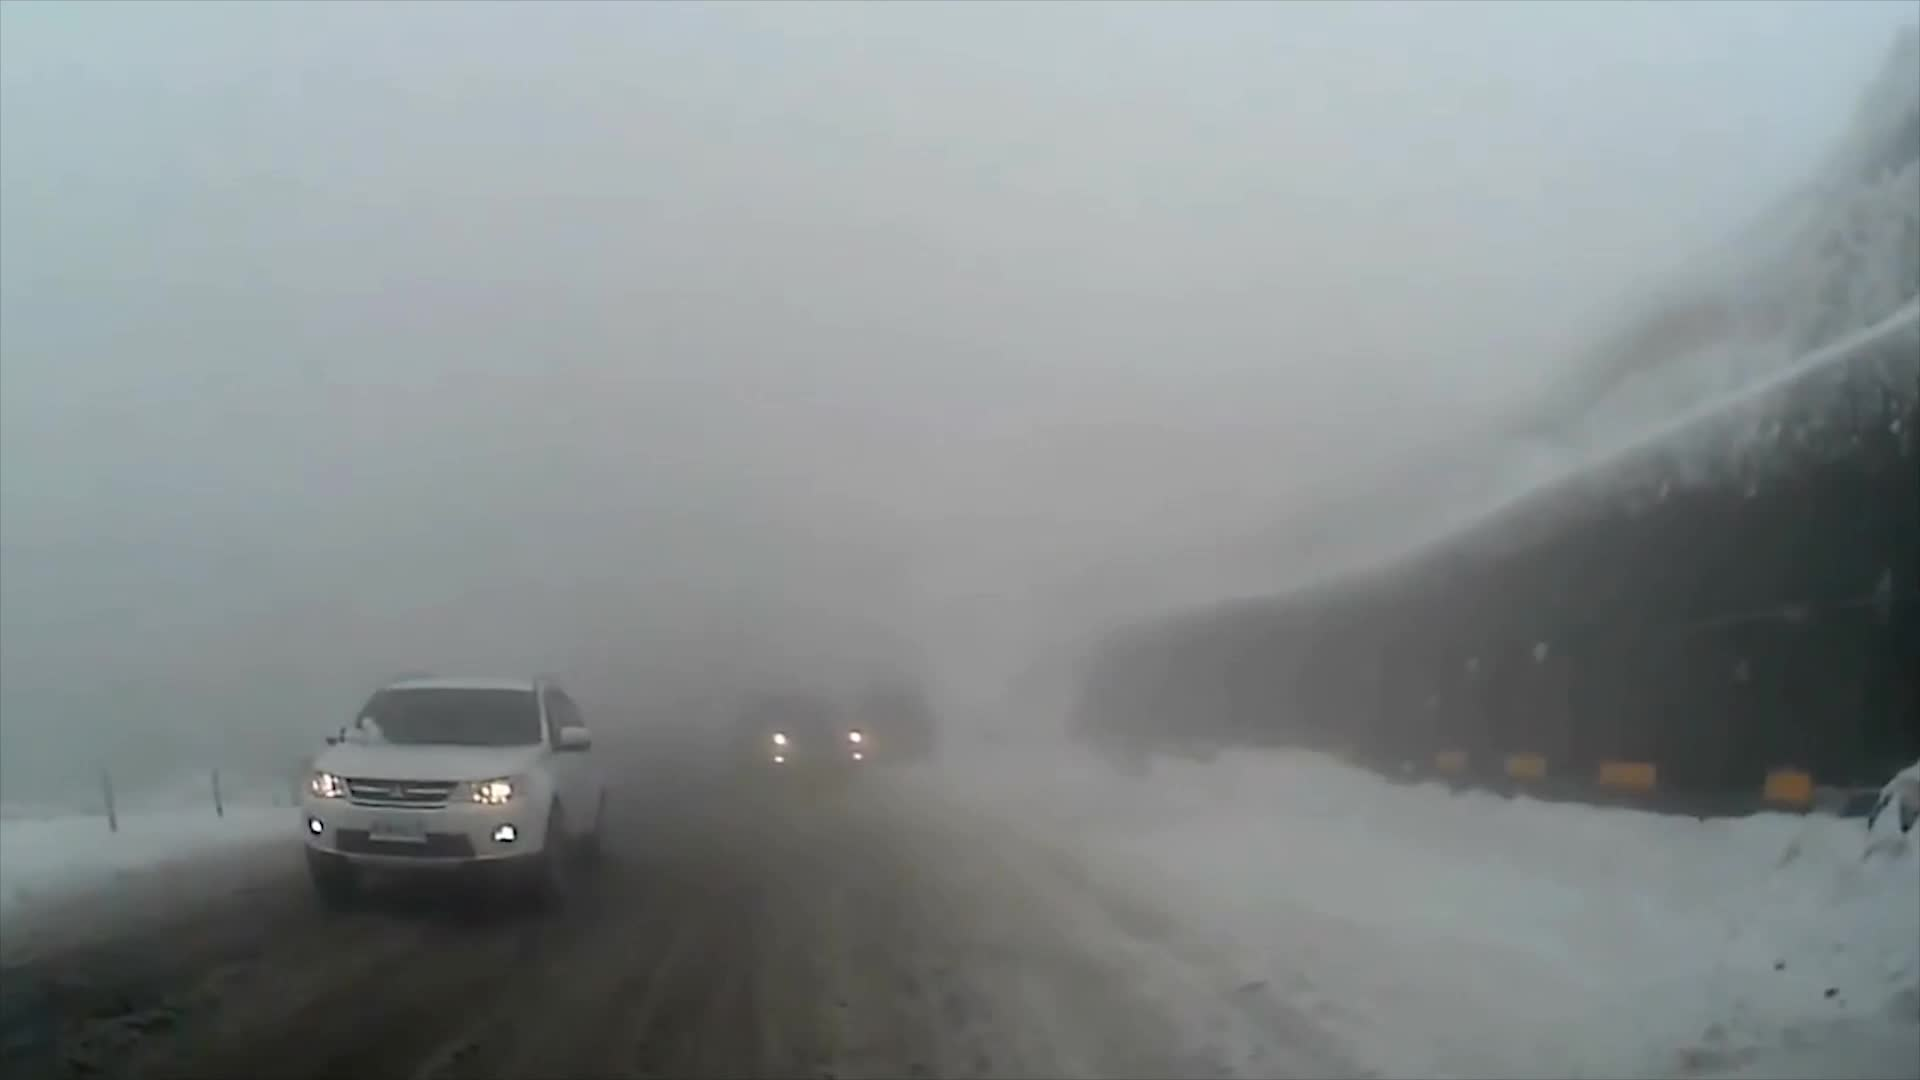vehicle: (295, 665, 611, 913), (723, 698, 866, 800)
